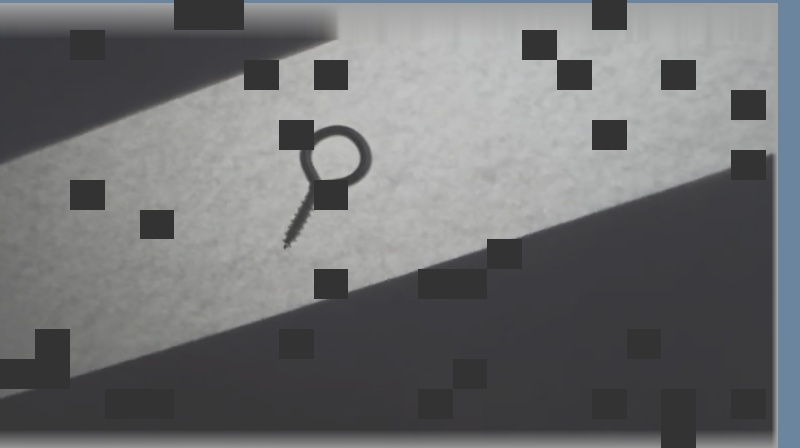O001: (276, 121, 376, 251)
